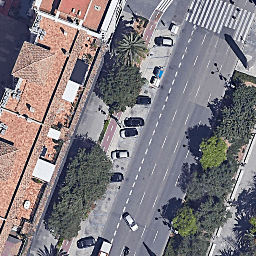car: (122, 212, 139, 232), (154, 35, 174, 47), (99, 240, 114, 256), (76, 237, 95, 248), (124, 117, 144, 127), (120, 128, 138, 138), (112, 149, 129, 159), (135, 95, 151, 105), (111, 172, 123, 182)
